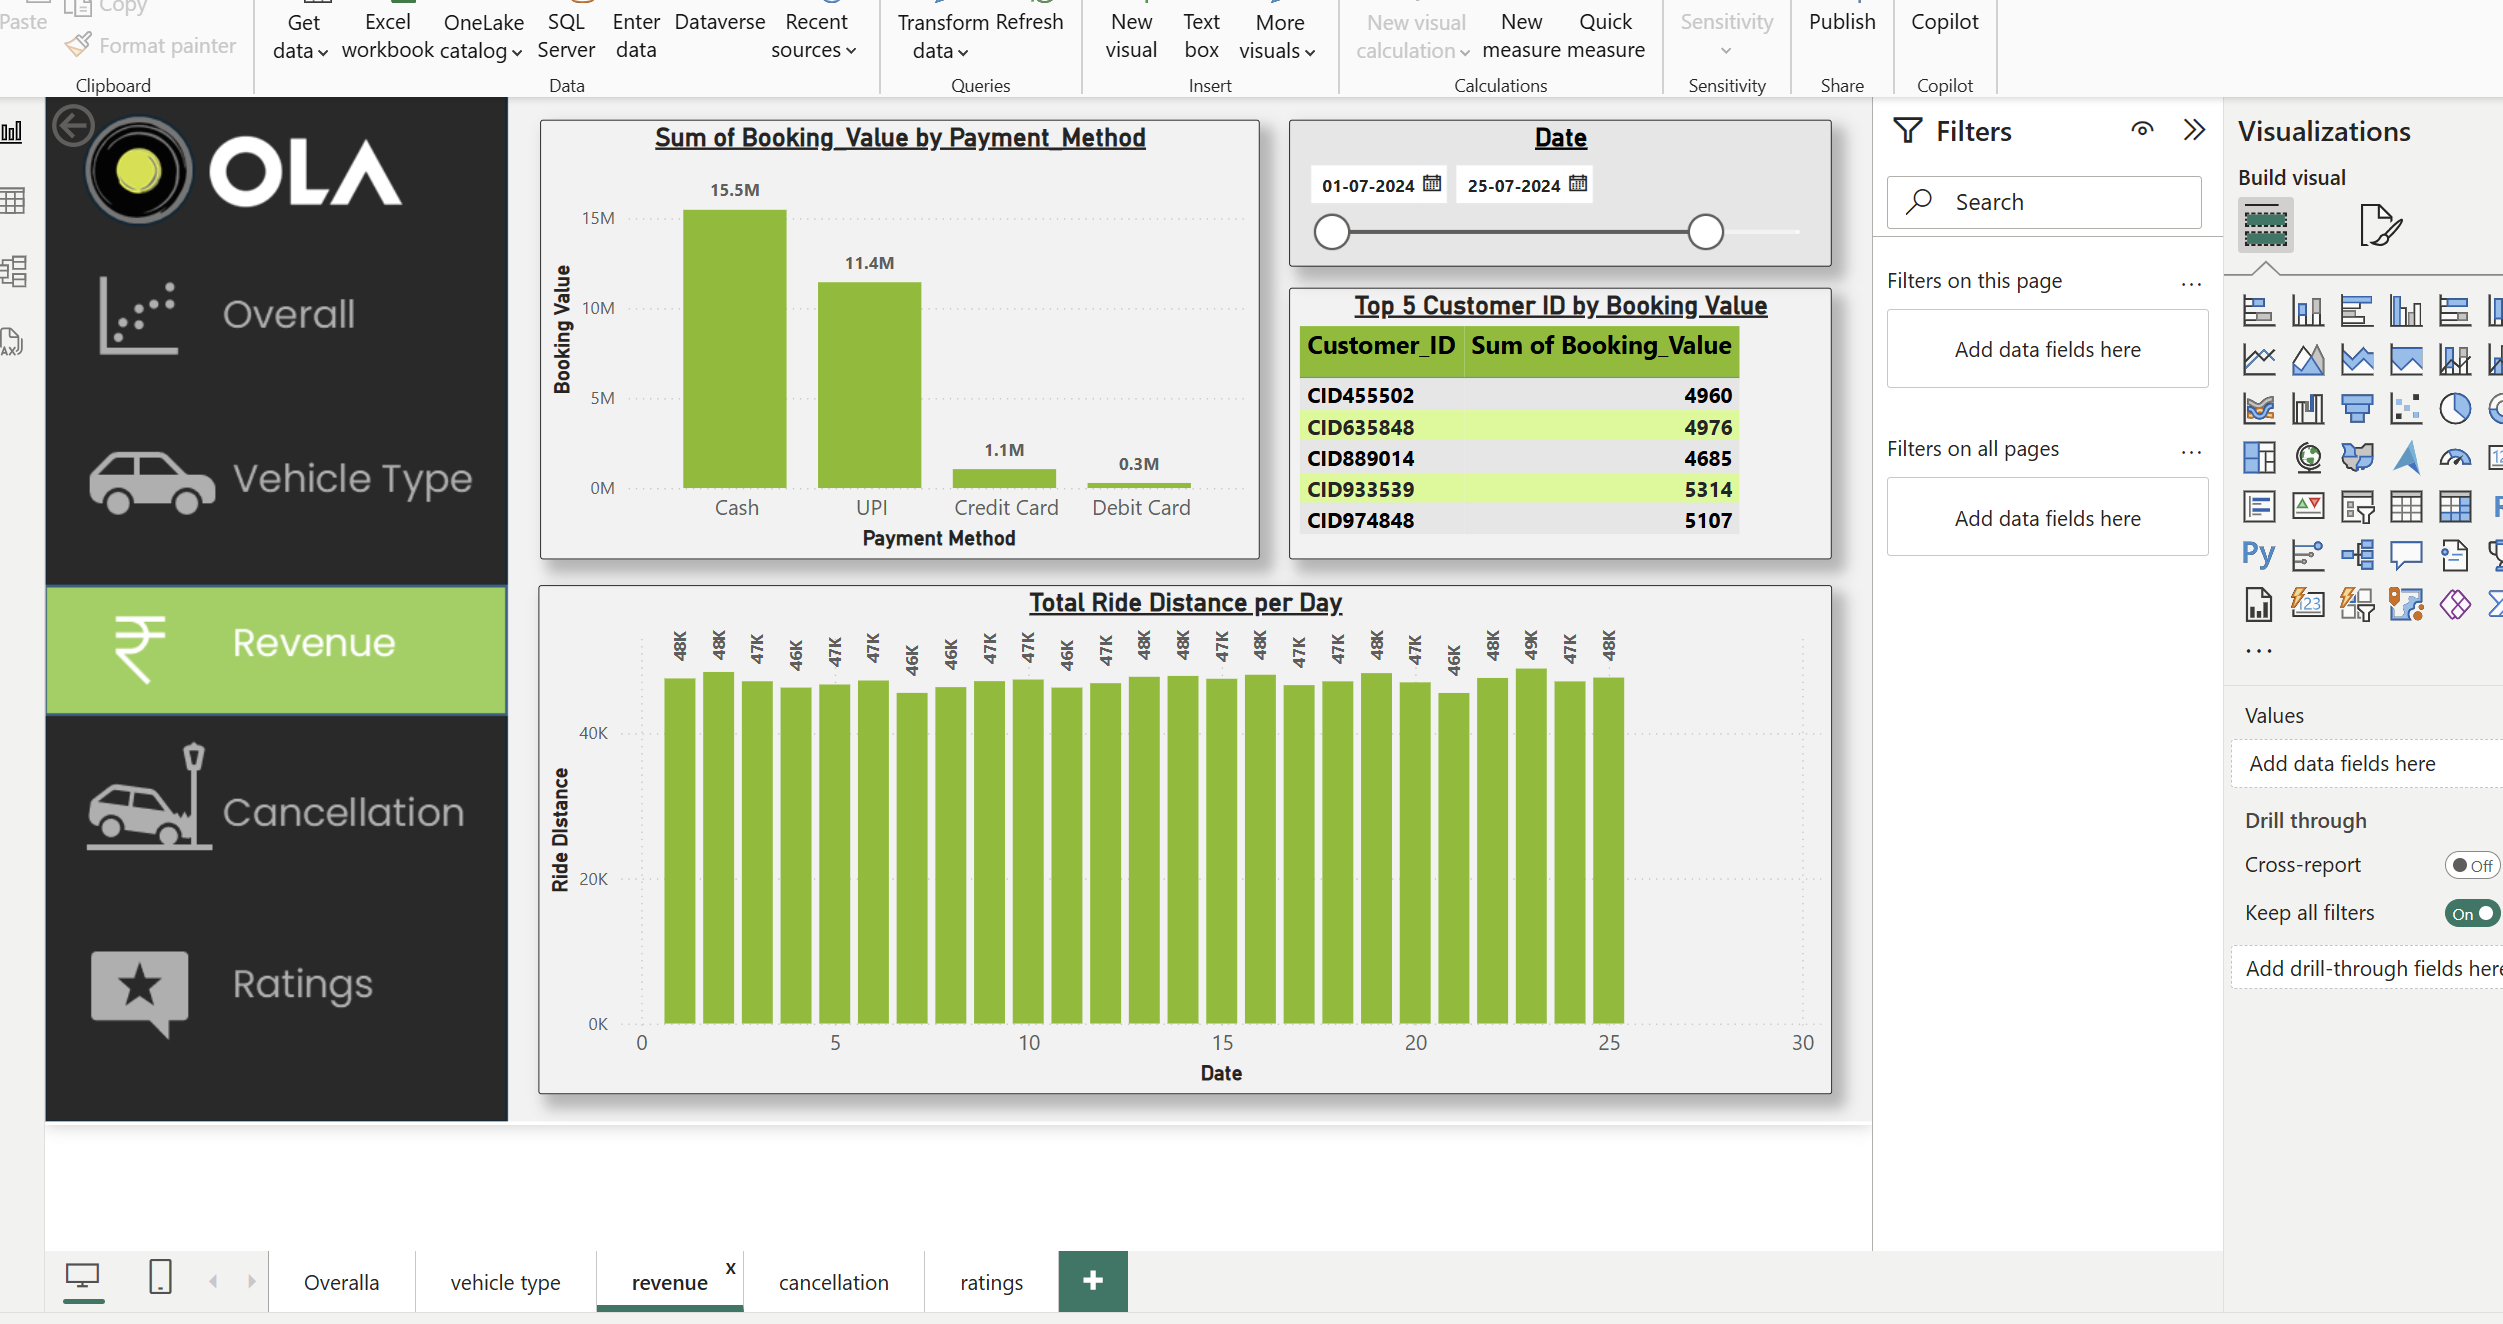

What the dashboard file says about the page in this screenshot:
{"tool":"powerbi","page":{"name":"revenue","canvas":[1280,720],"ordinal":2},"visuals":[{"type":"actionButton","box":[0,222.2,324.4,92.2],"z":0},{"type":"actionButton","box":[0,107.8,324.4,91.1],"z":1000},{"type":"actionButton","box":[0,350,324.4,81.1],"z":2000},{"type":"actionButton","box":[0,446.7,324.4,92.2],"z":3000},{"type":"actionButton","box":[0,583.3,324.4,93.3],"z":4000},{"type":"clusteredColumnChart","fields":{"Category":["olass.Payment_Method"],"Y":["Sum(olass.Booking_Value)"]},"box":[347,15.9,503.9,307.7],"z":5000},{"type":"clusteredColumnChart","title":"Total Ride Distance per Day","fields":{"Category":["olass.Date.Variation.Date Hierarchy.Day"],"Y":["Sum(olass.Ride_Distance)"]},"box":[345.7,342.1,906.1,356.8],"z":6000},{"type":"slicer","title":"Date","fields":{"Values":["olass.Date"]},"box":[871.7,15.9,380.1,103],"z":7000},{"type":"tableEx","title":"Top 5 Customer ID by Booking Value","fields":{"Values":["olass.Customer_ID","Sum(olass.Booking_Value)"]},"box":[871.7,133.6,380.1,190],"z":8000},{"type":"actionButton","box":[0,0,100,40],"z":9000}]}

Visuals, with their boxes on the page's 1280x720 design canvas (x1, y1, x2, y2). These are canvas units, not pixel positions in the 2503x1324 screenshot, which may show the page scaled, cropped or inside an application window:
actionButton: 0 222 324 314
actionButton: 0 108 324 199
actionButton: 0 350 324 431
actionButton: 0 447 324 539
actionButton: 0 583 324 677
clusteredColumnChart - olass.Payment_Method x Sum(olass.Booking_Value): 347 16 851 324
"Total Ride Distance per Day" clusteredColumnChart: 346 342 1252 699
"Date" slicer: 872 16 1252 119
"Top 5 Customer ID by Booking Value" tableEx: 872 134 1252 324
actionButton: 0 0 100 40
